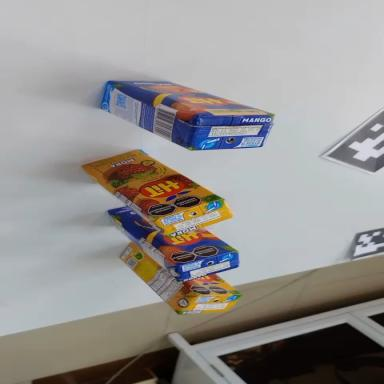HIT-MANGO: (94, 63, 276, 171), (95, 202, 244, 296)
HIT-MORA: (73, 129, 238, 260), (109, 240, 245, 332)
cara_F: (76, 128, 224, 244), (105, 176, 237, 288), (107, 63, 274, 137), (184, 273, 242, 296)
